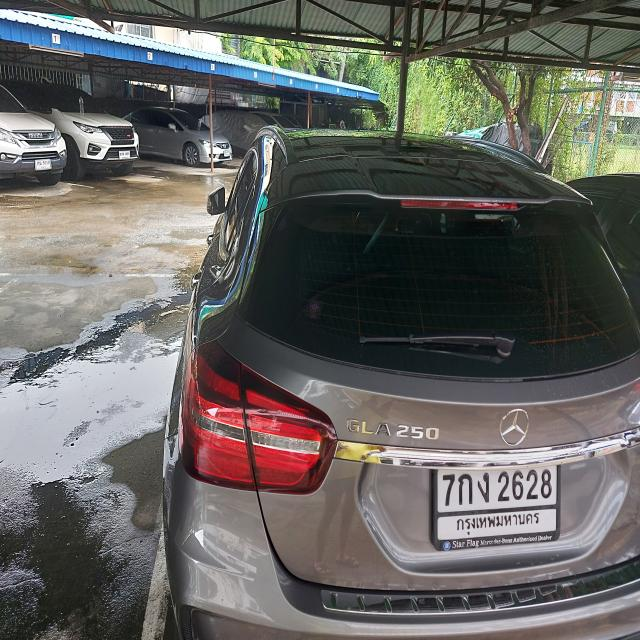license_plate: (431, 460, 564, 552)
